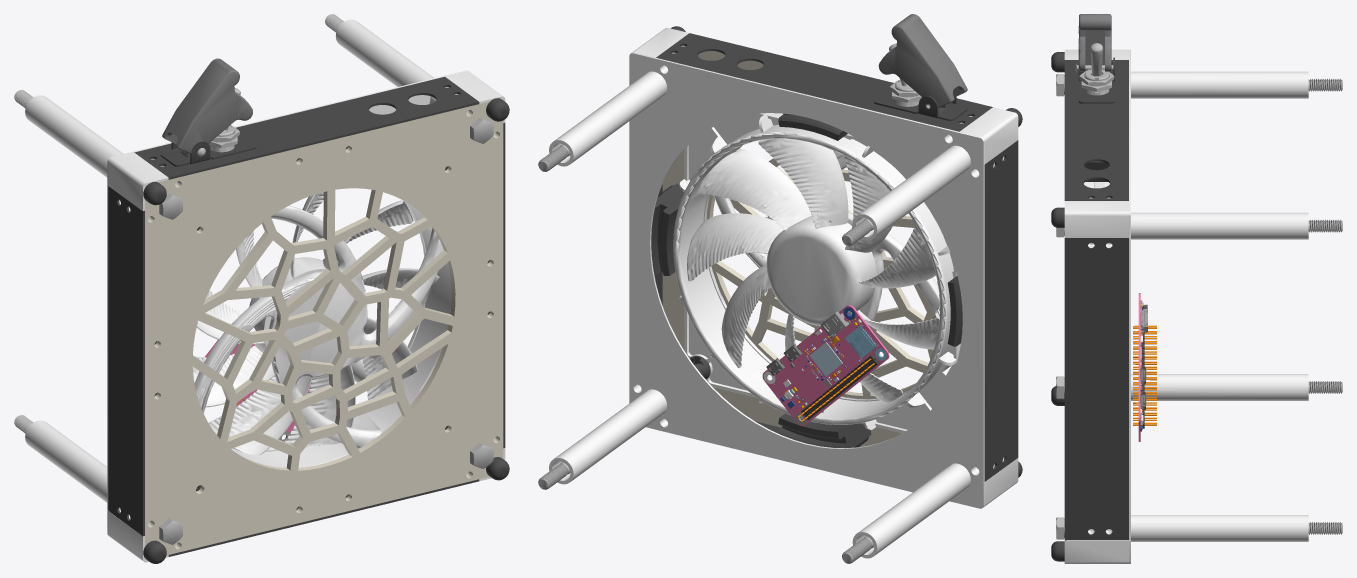
3 views of the same model, side by side, from view 1: azimuth 30°, elevation 25°; view 2: azimuth 150°, elevation 25°; view 3: azimuth 270°, elevation 25° (orthographic). The views are drawn at different scales.
Visible parts, largest first — view 1: r01-base; view 2: r01-base; view 3: r01-base.
Boxes of the visible parts, x1,y1,x2,y2 form: r01-base: (14, 14, 509, 563); r01-base: (538, 14, 1022, 563); r01-base: (1051, 14, 1342, 563).
Bounding box in the file's own units: 0.182 × 0.2222 × 0.1364.
